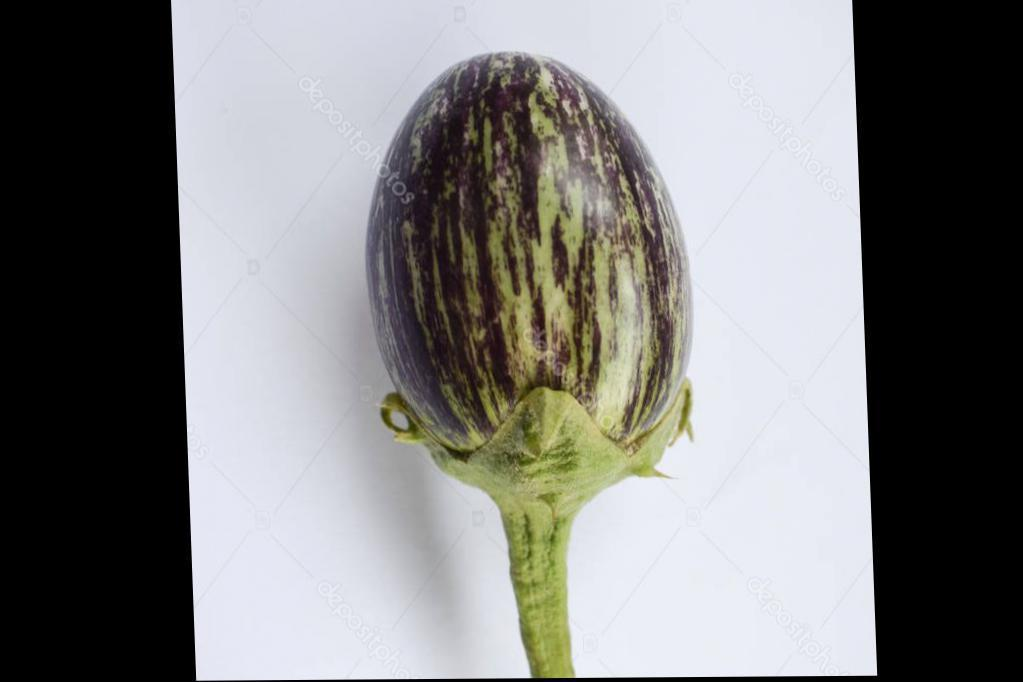eggplant: (324, 3, 739, 679)
